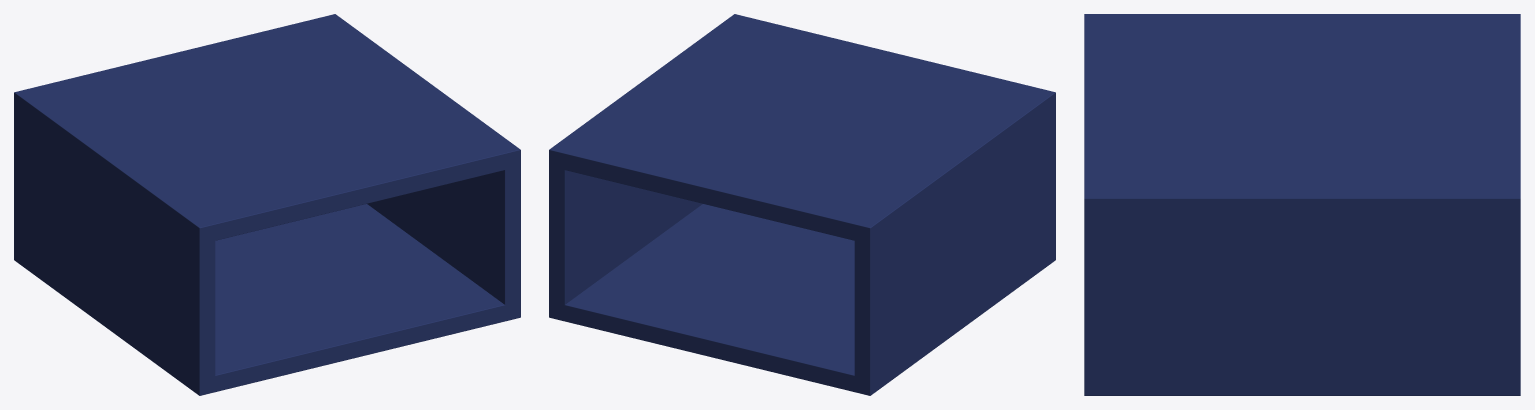
File: MOD_1X05_A_O_AF.glb
3 renders of one model, left to right at view 1: azimuth 30°, elevation 25°; view 2: azimuth 150°, elevation 25°; view 3: azimuth 270°, elevation 25°, orthographic. The views are drawn at different scales.
Bounding box in the file's own units: 360 × 180 × 360.
